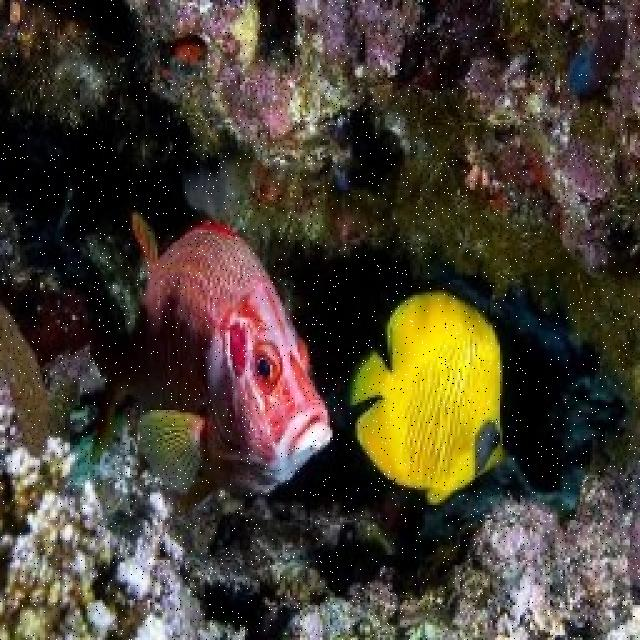fish: (76, 204, 335, 496), (349, 291, 507, 503)
sea-floor: (0, 2, 638, 638)
